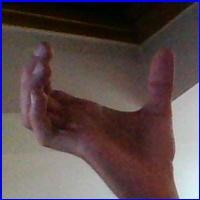space: (14, 40, 183, 180)
